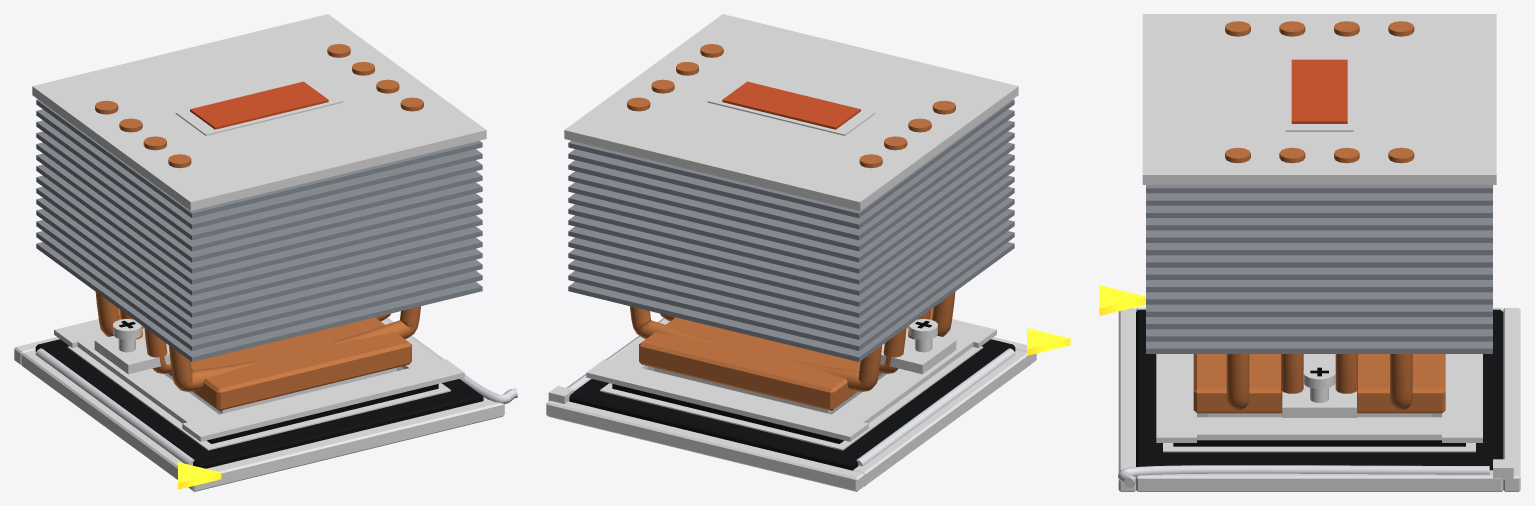
File: hwm_cpu_ryzen9_16c.glb
The picture shows the model from 3 angles, left to right: view 1: azimuth 30°, elevation 25°; view 2: azimuth 150°, elevation 25°; view 3: azimuth 270°, elevation 25°; orthographic projection. The views are drawn at different scales.
Parts seen in each view (by area): view 1: Cooler, Socket, Frame, CPU, Screw_0, Lever; view 2: Cooler, Socket, Frame, CPU, Screw_0; view 3: Cooler, Socket, Frame, Lever, CPU, Screw_1.
Boxes of the visible parts, bbox=[...] form: Cooler: bbox=[32, 14, 486, 410]; Socket: bbox=[14, 320, 504, 491]; Frame: bbox=[54, 319, 464, 441]; CPU: bbox=[164, 366, 438, 443]; Screw_0: bbox=[113, 319, 141, 352]; Lever: bbox=[385, 317, 517, 403]; Cooler: bbox=[564, 14, 1018, 410]; Socket: bbox=[546, 317, 1070, 491]; Frame: bbox=[586, 319, 996, 441]; CPU: bbox=[612, 366, 886, 443]; Screw_0: bbox=[909, 319, 937, 352]; Cooler: bbox=[1142, 14, 1496, 417]; Socket: bbox=[1099, 285, 1520, 491]; Frame: bbox=[1156, 354, 1482, 442]; Lever: bbox=[1118, 465, 1489, 487]; CPU: bbox=[1173, 413, 1465, 446]; Screw_1: bbox=[1303, 365, 1335, 402].
Bounding box in the file's own units: 0.1338 × 0.1031 × 0.1239.
